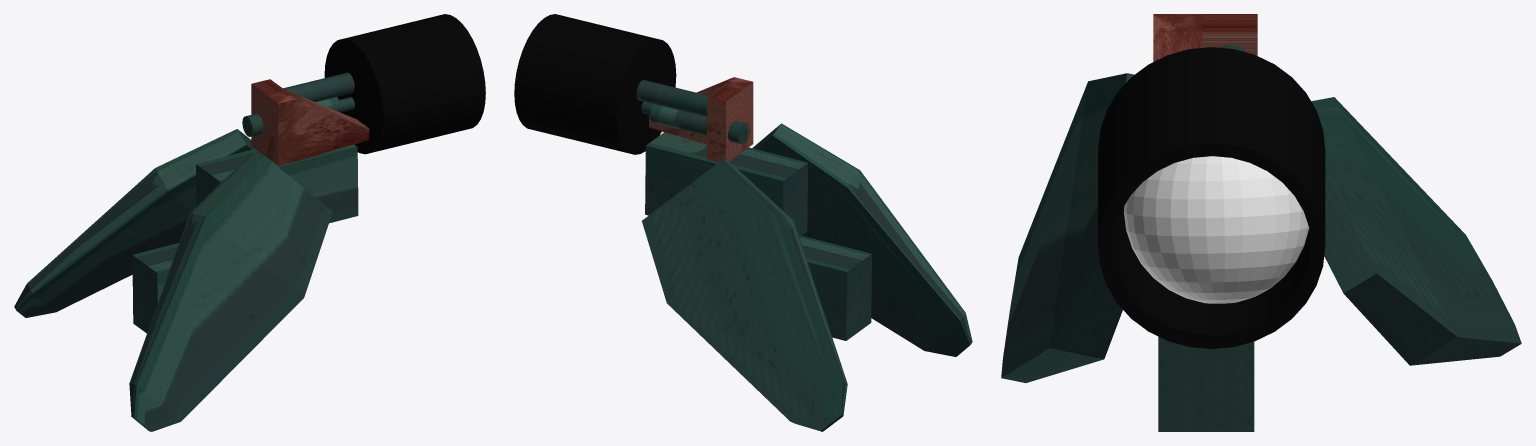
Rendered from birds.fbx.
The picture shows the model from 3 angles, left to right: view 1: azimuth 30°, elevation 25°; view 2: azimuth 150°, elevation 25°; view 3: azimuth 270°, elevation 25°; orthographic projection. The views are drawn at different scales.
Visible parts, largest first — view 1: Cube.027, Cylinder.183, Cube.026, Cube.029, Cube.025, Cube.028, Cylinder.053, Cylinder.054; view 2: Cube.026, Cylinder.183, Cube.027, Cube.025, Cube.028, Cube.029, Cylinder.053, Cylinder.054; view 3: Cylinder.183, Cube.026, Sphere.025, Cube.027, Cube.028, Cube.029.
Part boxes in pixels (x1,y1,x2,y2): Cube.027: (129, 152, 332, 431); Cylinder.183: (324, 14, 485, 154); Cube.026: (14, 129, 254, 317); Cube.029: (251, 79, 369, 165); Cube.025: (196, 144, 358, 223); Cube.028: (132, 243, 178, 333); Cylinder.053: (283, 72, 354, 101); Cylinder.054: (242, 97, 340, 136); Cube.026: (642, 159, 847, 431); Cylinder.183: (514, 14, 676, 154); Cube.027: (752, 123, 972, 356); Cube.025: (645, 132, 808, 237); Cube.028: (799, 236, 871, 340); Cube.029: (649, 77, 753, 162); Cylinder.053: (636, 80, 707, 116); Cylinder.054: (650, 104, 749, 144); Cylinder.183: (1098, 47, 1325, 348); Cube.026: (1311, 97, 1521, 365); Sphere.025: (1124, 156, 1309, 303); Cube.027: (1001, 73, 1134, 382); Cube.028: (1158, 346, 1254, 431); Cube.029: (1153, 14, 1257, 61).
Bounding box in the file's own units: 176 × 129 × 110.
Materials: 3 (2 with a texture image).
